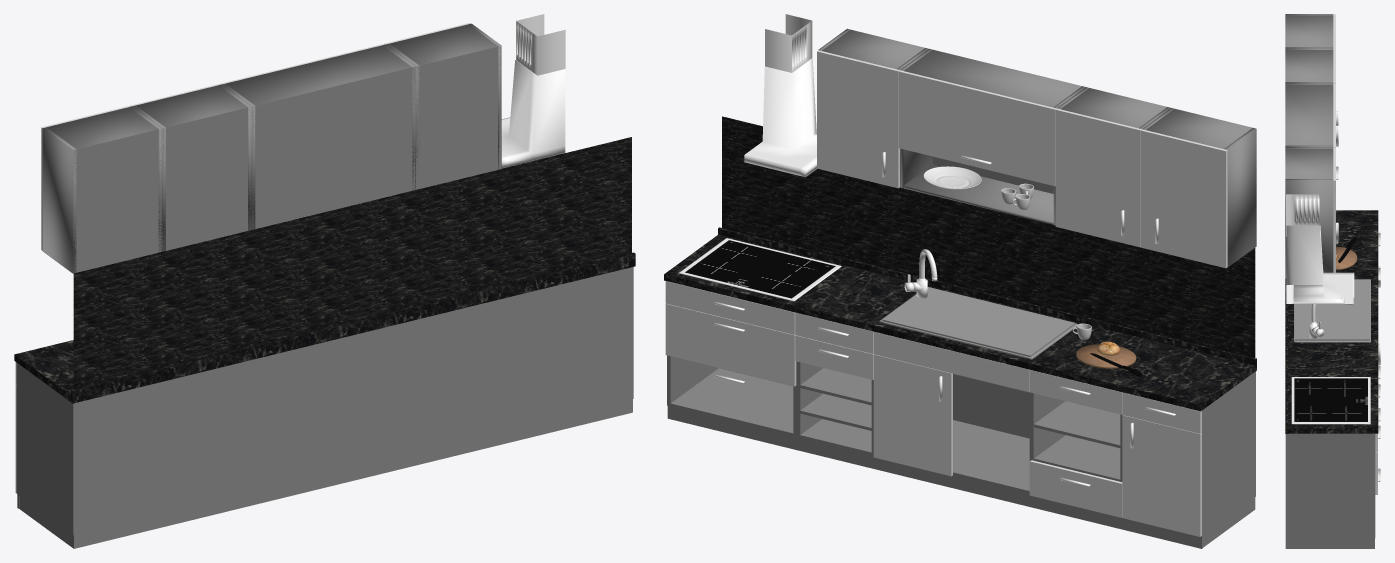
The model's file is kitchenset.glb.
The picture shows the model from 3 angles, left to right: view 1: azimuth 30°, elevation 25°; view 2: azimuth 150°, elevation 25°; view 3: azimuth 270°, elevation 25°; orthographic projection. The views are drawn at different scales.
Visible parts, largest first — view 1: back decor wall, cabinet_ground_60x82.002, cabinet_wall_40.003, cabinet_ground_60x82.001, cabinet_ground_40x82.014, cabinet_wall_40.002, cabinet_wall_40.001, cabinet_wall_40.004, cabinet_ground_40x82.001, bootom stand, top.back, hood (+2 smaller); view 2: back decor wall, top, cabinet_ground_60x82.002, cabinet_ground_40x82.012, cabinet_ground_40x82.004, cabinet_ground_40x82.011, cabinet_ground_40x82.013, cabinet_wall_40.003, cabinet_ground_40x82.006, cabinet_ground_40x82.003, bootom stand, sink FRANKE._booleanbox (+22 smaller); view 3: cabinet_ground_40x82.014, top, cabinet_wall_40.004, hood, Plane.002, cabinet_wall_40.003, sink FRANKE._booleanbox, cabinet_wall_40.001, cabinet_wall_40.002, Cube.002, bootom stand, Plane (+7 smaller).
Boxes of the visible parts, <box> form: back decor wall: <box>73,137,631,390</box>; cabinet_ground_60x82.002: <box>155,320,415,515</box>; cabinet_wall_40.003: <box>222,44,415,229</box>; cabinet_ground_60x82.001: <box>17,363,155,535</box>; cabinet_ground_40x82.014: <box>498,267,633,431</box>; cabinet_wall_40.002: <box>42,106,162,273</box>; cabinet_wall_40.001: <box>132,84,251,251</box>; cabinet_wall_40.004: <box>386,23,501,189</box>; cabinet_ground_40x82.001: <box>416,300,497,451</box>; bootom stand: <box>17,399,632,548</box>; top.back: <box>71,252,635,403</box>; hood: <box>501,60,565,168</box>; back decor wall: <box>722,116,1255,358</box>; top: <box>664,234,1254,411</box>; cabinet_ground_60x82.002: <box>953,374,1122,493</box>; cabinet_ground_40x82.012: <box>898,70,1056,186</box>; cabinet_ground_40x82.004: <box>1141,129,1227,268</box>; cabinet_ground_40x82.011: <box>1055,108,1141,247</box>; cabinet_ground_40x82.013: <box>817,50,899,188</box>; cabinet_wall_40.003: <box>900,48,1085,225</box>; cabinet_ground_40x82.006: <box>1122,415,1201,536</box>; cabinet_ground_40x82.003: <box>873,354,952,476</box>; bootom stand: <box>667,406,1255,548</box>; sink FRANKE._booleanbox: <box>882,287,1075,392</box>; cabinet_ground_40x82.014: <box>1285,433,1375,538</box>; top: <box>1288,210,1378,433</box>; cabinet_wall_40.004: <box>1285,147,1333,278</box>; hood: <box>1286,225,1354,303</box>; Plane.002: <box>1294,378,1367,421</box>; cabinet_wall_40.003: <box>1285,83,1333,146</box>; sink FRANKE._booleanbox: <box>1295,279,1369,340</box>; cabinet_wall_40.001: <box>1285,48,1333,83</box>; cabinet_wall_40.002: <box>1285,14,1333,48</box>; Cube.002: <box>1286,194,1319,225</box>; bootom stand: <box>1285,538,1374,548</box>; Plane: <box>1292,285,1344,303</box>.
Bounding box in the file's own units: 9.63 × 6.53 × 1.77.
Materials: 19 (5 with a texture image).
